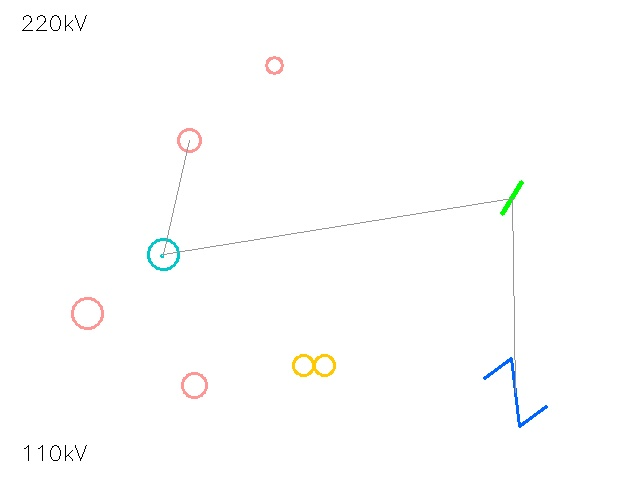busbar: (489, 175, 535, 221)
circuit_breaker: (482, 359, 548, 425)
feeder_terminal: (257, 48, 291, 82)
generator: (148, 239, 178, 269)
reactor: (166, 117, 212, 163)
surge_arrester: (56, 282, 118, 344), (170, 361, 218, 409)
transformer_2w: (288, 339, 340, 391)
